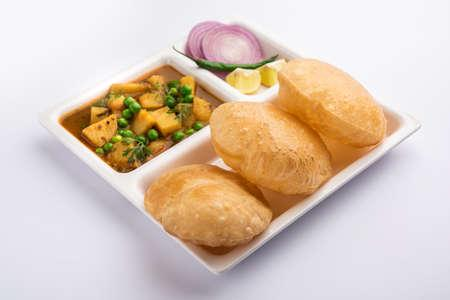puri: (221, 57, 387, 199)
